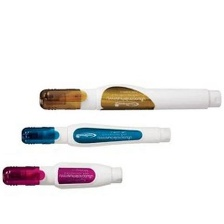correction_fluid: (36, 79, 223, 113), (19, 122, 172, 148), (1, 160, 124, 191)
